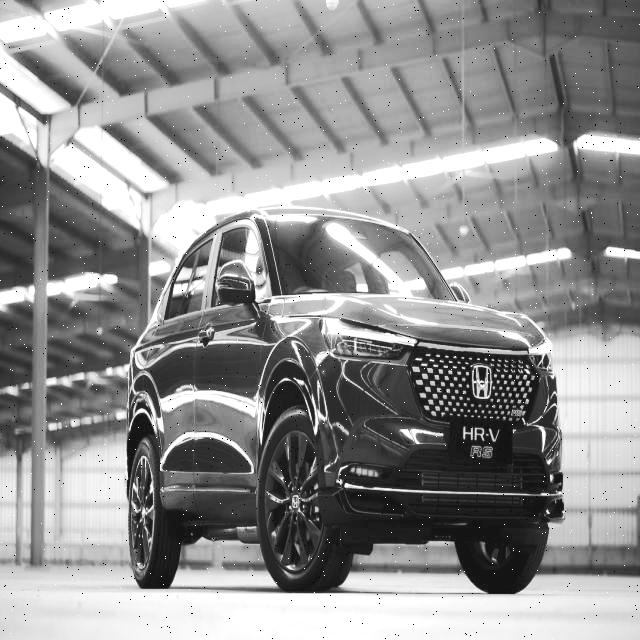Car: (119, 197, 573, 631)
